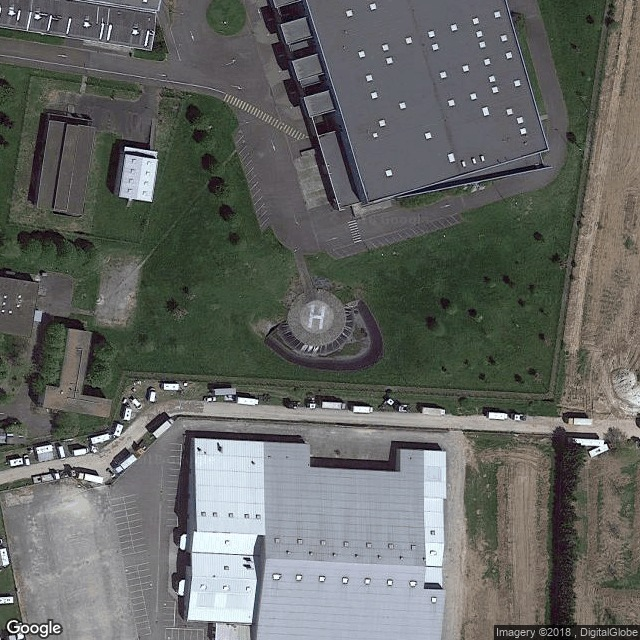heliport: (306, 302, 326, 330)
